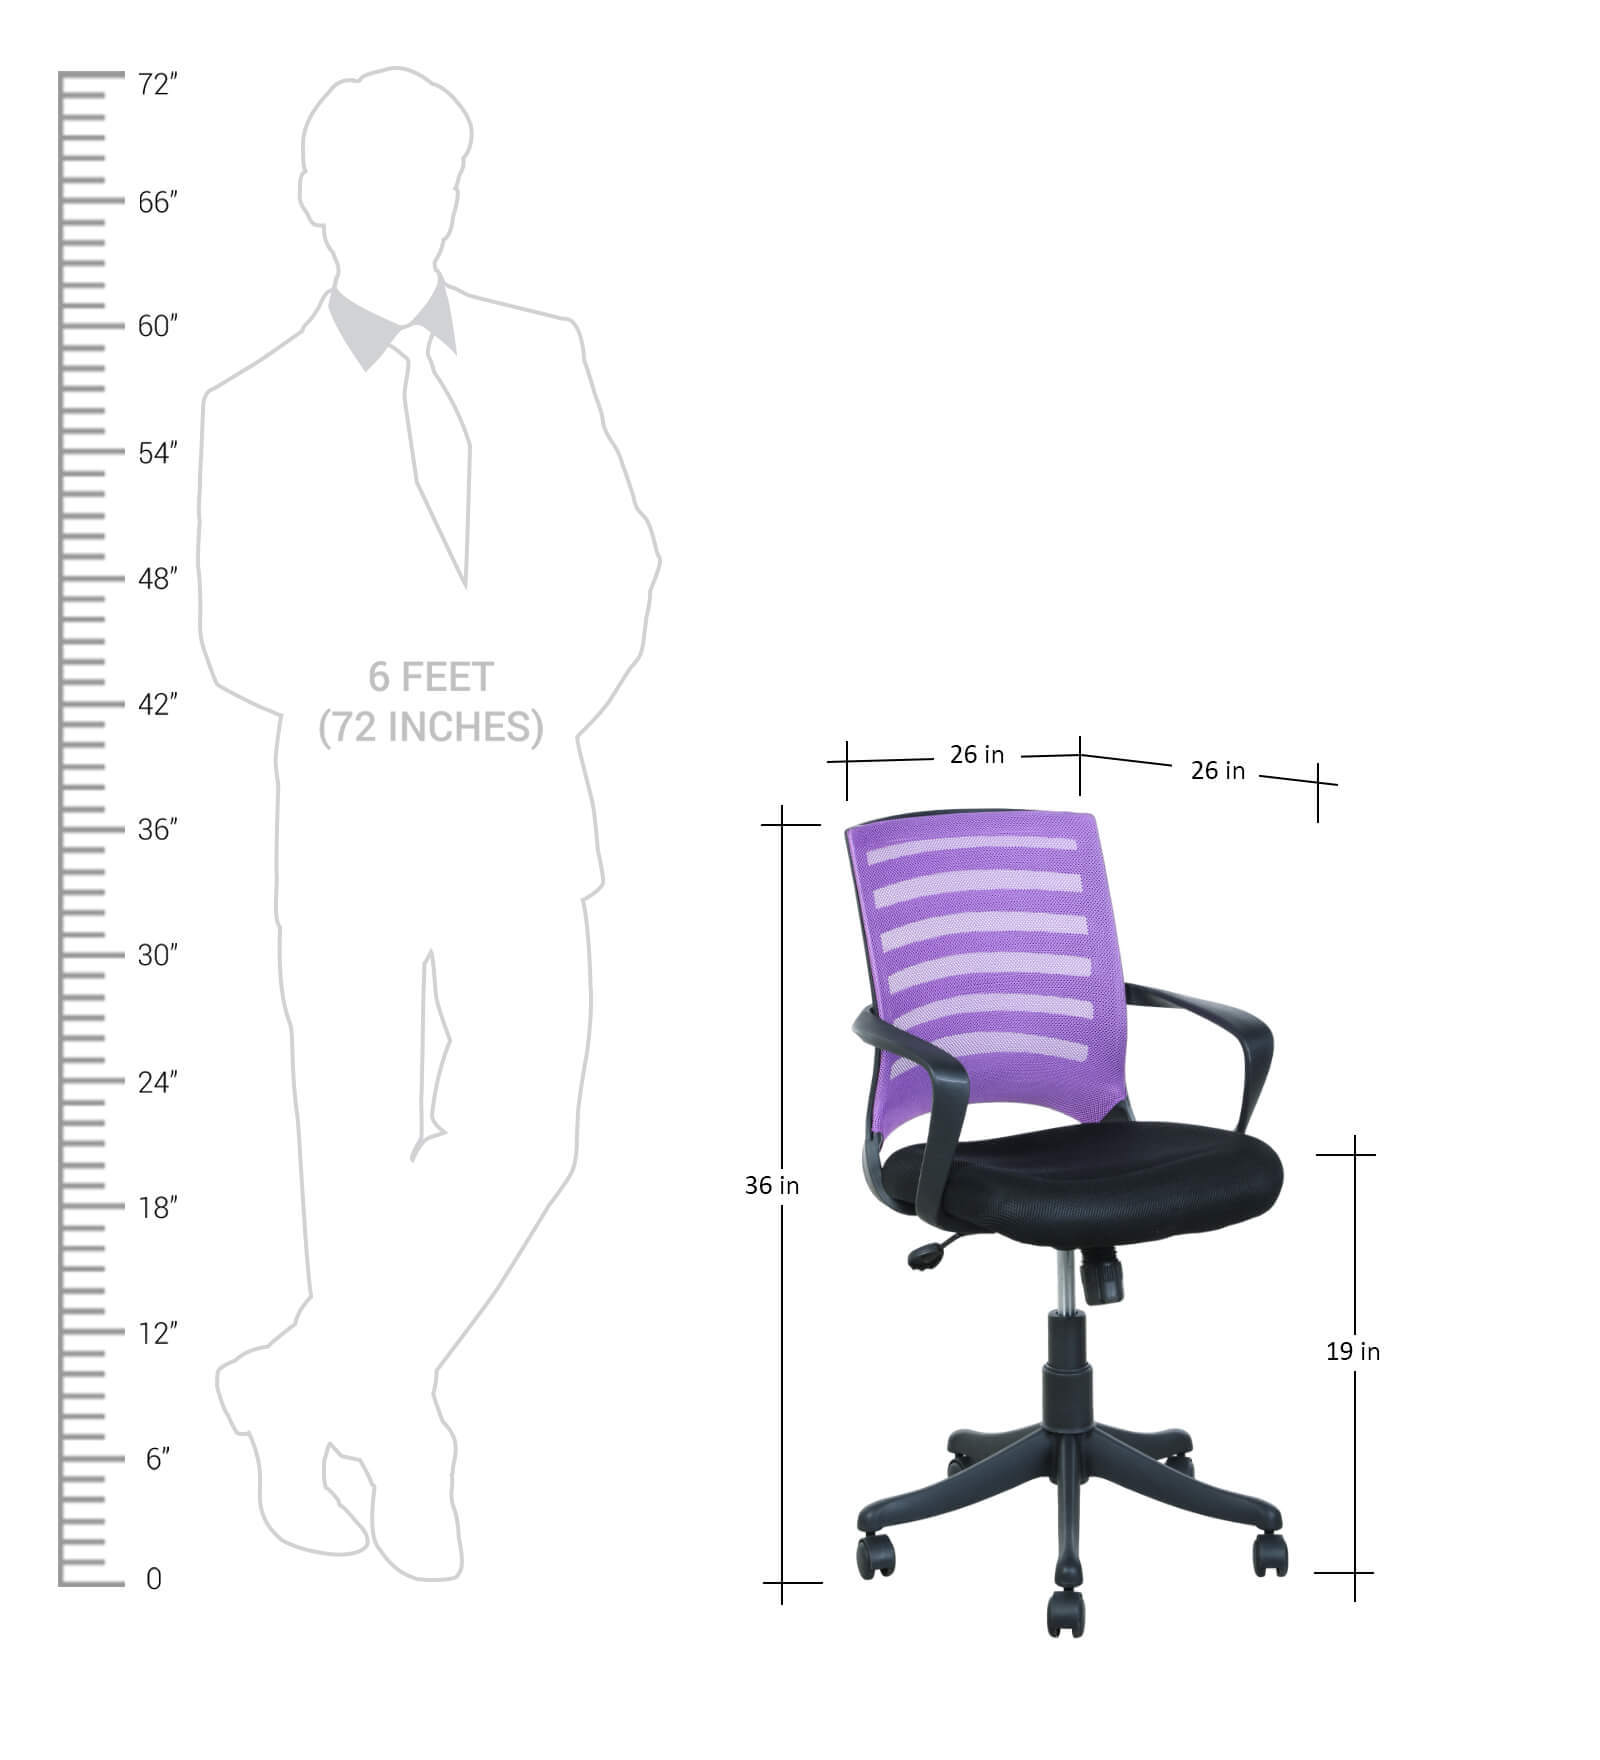Trendy Ergonomic Chair in Purple Colour by Parin: (821, 805, 1310, 1680)
